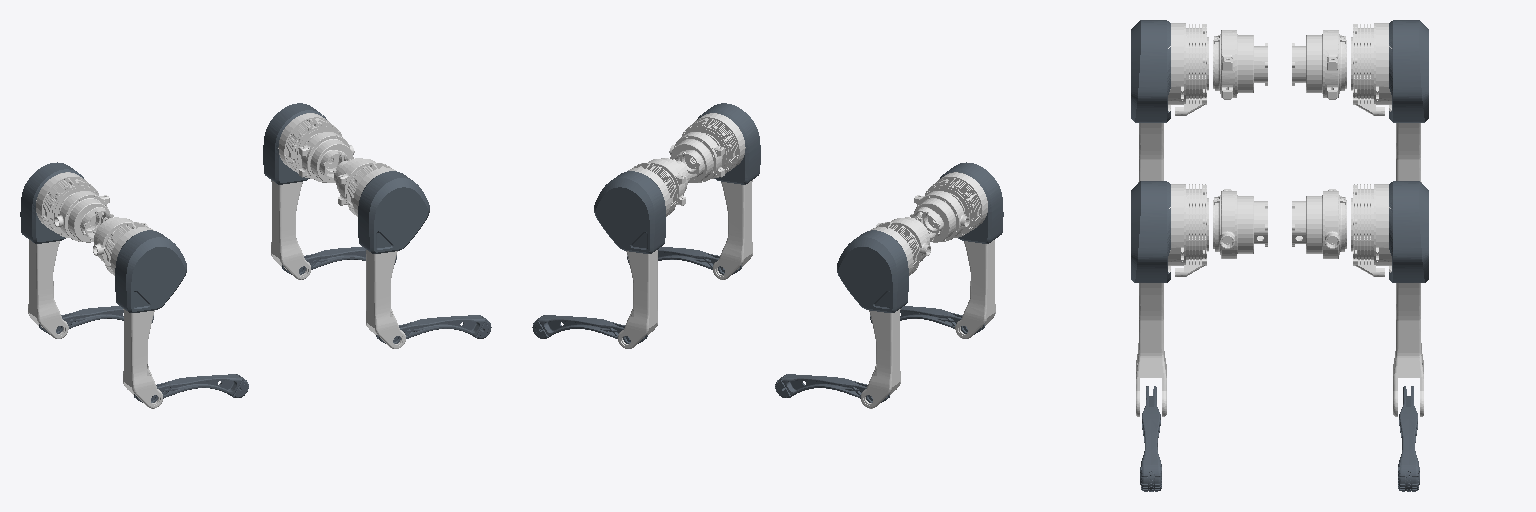
URDF robot description (X30):
<?xml version="1.0" encoding="utf-8"?>
<!-- This URDF was automatically created by SolidWorks to URDF Exporter! Originally created by [author] ([email redacted]) 
     Commit Version: 1.6.0-4-g7f85cfe  Build Version: 1.6.7995.38578
     For more information, please see http://wiki.ros.org/sw_urdf_exporter -->
<robot name="X30">
    <mujoco>
        <compiler meshdir="../meshes/" balanceinertia="false" discardvisual="false"/>
    </mujoco>
  <!-- <link name="base_link">
    <inertial>
      <origin xyz="0.0 0.0 0.0"/>
      <mass value="1e-12" />
      <inertia ixx="1e-12" ixy="0" ixz="0" iyy="1e-12" iyz="0" izz="1e-12" />
    </inertial>
  </link> -->

  <link name="TORSO">
    <inertial>
      <mass value="30.7" />
      <inertia ixx="0.364306" ixy="0.00018421" ixz="0.00027469" iyy="0.597627" iyz="0.00026784" izz="0.757267" />
    </inertial>
    <visual>
      <geometry>
        <mesh filename="../meshes/torso.dae"/>
      </geometry>
    </visual>
    <collision>
      <geometry>
        <box size="0.46 0.26 0.18"/>
      </geometry>
    </collision>
  </link>

  <!-- <joint name="base_joint" type="fixed">
    <parent link="base_link" />
    <child link="torso" />
  </joint> -->

  <link name="FL_HIP">
    <inertial>
      <origin xyz="-0.0018591 -0.011377 0.00027039"/>
      <mass value="1.43" />
      <inertia ixx="0.0014068" ixy="-1.8545e-05" ixz="2.7664e-06" iyy="0.0026782" iyz="2.1221e-06" izz="0.0015918" />
    </inertial>
    <visual>
      <geometry>
        <mesh filename="../meshes/hip.dae"/>
      </geometry>
    </visual>
  </link>

  <joint name="FL_HipX_joint" type="revolute">
    <origin xyz="0.291 0.08 0"  />
    <parent link="TORSO" />
    <child link="FL_HIP" />
    <axis xyz="-1 0 0" />
    <dynamics damping="0.0" friction="0.0"/>
    <limit lower="-0.323" upper="0.585" effort="84" velocity="17.5" />
  </joint>

  <link name="FL_THIGH">
    <inertial>
      <origin xyz="-0.0087581 -0.023554 -0.055162"  />
      <mass value="4.0809" />
      <inertia ixx="0.012604" ixy="0.00020291" ixz="-0.00030875" iyy="0.0164" iyz="0.00036593" izz="0.0061084" />
    </inertial>
    <visual>
      <geometry>
        <mesh filename="../meshes/thigh.dae"/>
      </geometry>
    </visual>
    <collision>
      <origin xyz="-0.02 0 -0.13" />
      <geometry>
        <cylinder length="0.25" radius="0.04"/>
      </geometry>
    </collision>
  </link>

  <joint name="FL_HipY_joint" type="revolute">
    <origin xyz="0 0.11675 0"  />
    <parent link="FL_HIP" />
    <child link="FL_THIGH" />
    <axis xyz="0 -1 0" />
    <dynamics damping="0.0" friction="0.0"/>
    <limit lower="-2.967" upper="0.262" effort="84" velocity="17.5" />
  </joint>

  <link name="FL_SHANK">
    <inertial>
      <origin xyz="0.014851 2.0685e-05 -0.12283"  />
      <mass value="0.71386" />
      <inertia ixx="0.0093039" ixy="1.7693e-07" ixz="0.00034843" iyy="0.0096272" iyz="-3.7717e-06" izz="0.00041542" />
    </inertial>
    <visual>
      <geometry>
        <mesh filename="../meshes/shank.dae"/>
      </geometry>
    </visual>
    <collision>
      <origin xyz="0.00 0 -0.155" />
      <geometry>
        <cylinder length="0.22" radius="0.025"/>
      </geometry>
    </collision>
  </link>

  <joint name="FL_Knee_joint" type="revolute">
    <origin xyz="0 0 -0.30"  />
    <parent link="FL_THIGH" />
    <child link="FL_SHANK" />
    <axis xyz="0 -1 0" />
    <dynamics damping="0.0" friction="0.0"/>
    <limit lower="0.349" upper="2.531" effort="150" velocity="16.1" />
  </joint>

  <link name="FL_FOOT">
    <inertial>
      <mass value="0.06" />
      <inertia ixx="1e-12" ixy="0" ixz="0" iyy="1e-12" iyz="0" izz="1e-12" />
    </inertial>
    <collision>
      <geometry>
        <sphere radius="0.036"/>
      </geometry>
    </collision>
  </link>

  <joint name="FL_Ankle" type="fixed" dont_collapse="true">
    <origin xyz="0 0 -0.31"/>
    <parent link="FL_SHANK" />
    <child link="FL_FOOT" />
  </joint>

  <link name="FR_HIP">
    <inertial>
      <origin xyz="-0.0018591 0.011377 -2.7675e-05" rpy="3.14159 0 0" />
      <mass value="1.43" />
      <inertia ixx="0.0014068" ixy="1.8545e-05" ixz="-4.1487e-06" iyy="0.0026782" iyz="7.0795e-06" izz="0.0015918" />
    </inertial>
    <visual>
      <geometry>
        <mesh filename="../meshes/hip.dae" scale="1 -1 1"/>
      </geometry>
    </visual>
  </link>

  <joint name="FR_HipX_joint" type="revolute">
    <origin xyz="0.291 -0.08 0"  />
    <parent link="TORSO" />
    <child link="FR_HIP" />
    <axis xyz="-1 0 0" />
    <dynamics damping="0.0" friction="0.0"/>
    <limit lower="-0.585" upper="0.323" effort="84" velocity="17.5" />
  </joint>

  <link name="FR_THIGH">
    <inertial>
      <origin xyz="-0.0087433 0.023551 -0.055154"  />
      <mass value="4.0809" />
      <inertia ixx="0.012604" ixy="-0.00020374" ixz="-0.0003086" iyy="0.0164" iyz="-0.00036585" izz="0.0061086" />
    </inertial>
    <visual>
      <geometry>
        <mesh filename="../meshes/thigh.dae" scale="1 -1 1"/>
      </geometry>
    </visual>
    <collision>
      <origin xyz="-0.02 0 -0.13" />
      <geometry>
        <cylinder length="0.25" radius="0.04"/>
      </geometry>
    </collision>
  </link>

  <joint name="FR_HipY_joint" type="revolute">
    <origin xyz="0 -0.11675 0"  />
    <parent link="FR_HIP" />
    <child link="FR_THIGH" />
    <axis xyz="0 -1 0" />
    <dynamics damping="0.0" friction="0.0"/>
    <limit lower="-2.967" upper="0.262" effort="84" velocity="17.5" />
  </joint>

  <link name="FR_SHANK">
    <inertial>
      <origin xyz="0.014851 2.0687e-05 -0.12283"  />
      <mass value="0.71386" />
      <inertia ixx="0.0093039" ixy="1.7692e-07" ixz="0.00034843" iyy="0.0096272" iyz="-3.7714e-06" izz="0.00041542" />
    </inertial>
    <visual>
      <geometry>
        <mesh filename="../meshes/shank.dae"/>
      </geometry>
    </visual>
    <collision>
      <origin xyz="0.00 0 -0.155" />
      <geometry>
        <cylinder length="0.22" radius="0.025"/>
      </geometry>
    </collision>
  </link>

  <joint name="FR_Knee_joint" type="revolute">
    <origin xyz="0 0 -0.30"  />
    <parent link="FR_THIGH" />
    <child link="FR_SHANK" />
    <axis xyz="0 -1 0" />
    <dynamics damping="0.0" friction="0.0"/>
    <limit lower="0.349" upper="2.531" effort="150" velocity="16.1" />
  </joint>

  <link name="FR_FOOT">
    <inertial>
      <mass value="0.06" />
      <inertia ixx="1e-12" ixy="0" ixz="0" iyy="1e-12" iyz="0" izz="1e-12" />
    </inertial>
    <collision>
      <geometry>
        <sphere radius="0.036"/>
      </geometry>
    </collision>
  </link>

  <joint name="FR_Ankle" type="fixed" dont_collapse="true">
    <origin xyz="0 0 -0.31"/>
    <parent link="FR_SHANK" />
    <child link="FR_FOOT" />
  </joint>


  <link name="HL_HIP">
    <inertial>
      <origin xyz="0.0018591 -0.011377 -2.7675e-05" rpy="0 3.14159 0" />
      <mass value="1.43" />
      <inertia ixx="0.0014068" ixy="1.8545e-05" ixz="4.1487e-06" iyy="0.0026782" iyz="-7.0795e-06" izz="0.0015918" />
    </inertial>
    <visual>
      <geometry>
        <mesh filename="../meshes/hip.dae" scale="-1 1 1"/>
      </geometry>
    </visual>
  </link>

  <joint name="HL_HipX_joint" type="revolute">
    <origin xyz="-0.291 0.08 0"  />
    <parent link="TORSO" />
    <child link="HL_HIP" />
    <axis xyz="-1 0 0" />
    <dynamics damping="0.0" friction="0.0"/>
    <limit lower="-0.323" upper="0.585" effort="84" velocity="17.5" />
  </joint>

  <link name="HL_THIGH">
    <inertial>
      <origin xyz="-0.0087581 -0.023554 -0.055162"  />
      <mass value="4.0809" />
      <inertia ixx="0.012604" ixy="0.00020291" ixz="-0.00030875" iyy="0.0164" iyz="0.00036593" izz="0.0061084" />
    </inertial>
    <visual>
      <geometry>
        <mesh filename="../meshes/thigh.dae"/>
      </geometry>
    </visual>
    <collision>
      <origin xyz="-0.02 0 -0.13" />
      <geometry>
        <cylinder length="0.25" radius="0.04"/>
      </geometry>
    </collision>
  </link>

  <joint name="HL_HipY_joint" type="revolute">
    <origin xyz="0 0.11675 0"  />
    <parent link="HL_HIP" />
    <child link="HL_THIGH" />
    <axis xyz="0 -1 0" />
    <dynamics damping="0.0" friction="0.0"/>
    <limit lower="-2.967" upper="0.262" effort="84" velocity="17.5" />
  </joint>

  <link name="HL_SHANK">
    <inertial>
      <origin xyz="0.014851 2.0679e-05 -0.12283"  />
      <mass value="0.71386" />
      <inertia ixx="0.0093039" ixy="1.7692e-07" ixz="0.00034843" iyy="0.0096272" iyz="-3.7714e-06" izz="0.00041542" />
    </inertial>
    <visual>
      <geometry>
        <mesh filename="../meshes/shank.dae"/>
      </geometry>
    </visual>
    <collision>
      <origin xyz="0.00 0 -0.155" />
      <geometry>
        <cylinder length="0.22" radius="0.025"/>
      </geometry>
    </collision>
  </link>

  <joint name="HL_Knee_joint" type="revolute">
    <origin xyz="0 0 -0.30"  />
    <parent link="HL_THIGH" />
    <child link="HL_SHANK" />
    <axis xyz="0 -1 0" />
    <dynamics damping="0.0" friction="0.0"/>
    <limit lower="0.349" upper="2.531" effort="150" velocity="16.1" />
  </joint>

  <link name="HL_FOOT">
    <inertial>
      <mass value="0.06" />
      <inertia ixx="1e-12" ixy="0" ixz="0" iyy="1e-12" iyz="0" izz="1e-12" />
    </inertial>
    <collision>
      <geometry>
        <sphere radius="0.036"/>
      </geometry>
    </collision>
  </link>

  <joint name="HL_Ankle" type="fixed" dont_collapse="true">
    <origin xyz="0 0 -0.31"/>
    <parent link="HL_SHANK" />
    <child link="HL_FOOT" />
  </joint>

  <link name="HR_HIP">
    <inertial>
      <origin xyz="0.0018591 0.011377 0.00027039" rpy="3.14159 3.14159 0" />
      <mass value="1.43" />
      <inertia ixx="0.0014068" ixy="-1.8545e-05" ixz="-2.7664e-06" iyy="0.0026782" iyz="-2.1221e-06" izz="0.0015918" />
    </inertial>
    <visual>
      <geometry>
        <mesh filename="../meshes/hip.dae" scale="-1 -1 1"/>
      </geometry>
    </visual>
  </link>

  <joint name="HR_HipX_joint" type="revolute">
    <origin xyz="-0.291 -0.08 0"  />
    <parent link="TORSO" />
    <child link="HR_HIP" />
    <axis xyz="-1 0 0" />
    <dynamics damping="0.0" friction="0.0"/>
    <limit lower="-0.585" upper="0.323" effort="84" velocity="17.5" />
  </joint>

  <link name="HR_THIGH">
    <inertial>
      <origin xyz="-0.0087433 0.023551 -0.055154"  />
      <mass value="4.0809" />
      <inertia ixx="0.012604" ixy="-0.00020374" ixz="-0.0003086" iyy="0.0164" iyz="-0.00036585" izz="0.0061086" />
    </inertial>
    <visual>
      <geometry>
        <mesh filename="../meshes/thigh.dae" scale="1 -1 1"/>
      </geometry>
    </visual>
    <collision>
      <origin xyz="-0.02 0 -0.13" />
      <geometry>
        <cylinder length="0.25" radius="0.04"/>
      </geometry>
    </collision>
  </link>

  <joint name="HR_HipY_joint" type="revolute">
    <origin xyz="0 -0.11675 0"  />
    <parent link="HR_HIP" />
    <child link="HR_THIGH" />
    <axis xyz="0 -1 0" />
    <dynamics damping="0.0" friction="0.0"/>
    <limit lower="-2.967" upper="0.262" effort="84" velocity="17.5" />
  </joint>

  <link name="HR_SHANK">
    <inertial>
      <origin xyz="0.014851 2.0679e-05 -0.12283"  />
      <mass value="0.71386" />
      <inertia ixx="0.0093039" ixy="1.7692e-07" ixz="0.00034843" iyy="0.0096272" iyz="-3.7714e-06" izz="0.00041542" />
    </inertial>
    <visual>
      <geometry>
        <mesh filename="../meshes/shank.dae" />
      </geometry>
    </visual>
    <collision>
      <origin xyz="0.00 0 -0.155" />
      <geometry>
        <cylinder length="0.22" radius="0.025"/>
      </geometry>
    </collision>
  </link>

  <joint name="HR_Knee_joint" type="revolute">
    <origin xyz="0 0 -0.30"  />
    <parent link="HR_THIGH" />
    <child link="HR_SHANK" />
    <axis xyz="0 -1 0" />
    <dynamics damping="0.0" friction="0.0"/>
    <limit lower="0.349" upper="2.531" effort="150" velocity="16.1" />
  </joint>

  <link name="HR_FOOT">
    <inertial>
      <mass value="0.06" />
      <inertia ixx="1e-12" ixy="0" ixz="0" iyy="1e-12" iyz="0" izz="1e-12" />
    </inertial>
    <collision>
      <geometry>
        <sphere radius="0.036"/>
      </geometry>
    </collision>
  </link>

  <joint name="HR_Ankle" type="fixed" dont_collapse="true">
    <origin xyz="0 0 -0.31"/>
    <parent link="HR_SHANK" />
    <child link="HR_FOOT" />
  </joint>

</robot>

--- Facts derived from the render (not from the file) ---
3 views of the same robot in one strip: view 1: azimuth 30°, elevation 25°; view 2: azimuth 150°, elevation 25°; view 3: azimuth 270°, elevation 25° (orthographic).
Model X30 with 17 links and 16 joints (12 revolute, 4 fixed), rooted at TORSO, posed joints at zero except 4 at the middle of their limits (FL_Knee_joint = 1.44, FR_Knee_joint = 1.44, HL_Knee_joint = 1.44, HR_Knee_joint = 1.44).
Visible links, largest first — view 1: FR_THIGH, HR_THIGH, HL_THIGH, FL_THIGH, HL_HIP, FL_HIP, FR_SHANK, HR_SHANK, HL_SHANK, FL_SHANK, FR_HIP, HR_HIP; view 2: FL_THIGH, HL_THIGH, HR_THIGH, FR_THIGH, HR_HIP, FR_HIP, FL_SHANK, HL_SHANK, HR_SHANK, FR_SHANK, FL_HIP, HL_HIP; view 3: FL_THIGH, FR_THIGH, HL_THIGH, HR_THIGH, FL_HIP, FR_HIP, HL_HIP, HR_HIP, FR_SHANK, FL_SHANK.
Boxes of the visible links, x1,y1,x2,y2 form: FR_THIGH: (346, 163, 429, 348); HR_THIGH: (104, 222, 186, 408); HL_THIGH: (20, 162, 98, 338); FL_THIGH: (263, 103, 342, 279); HL_HIP: (54, 191, 113, 242); FL_HIP: (299, 132, 354, 182); FR_SHANK: (376, 315, 491, 343); HR_SHANK: (134, 374, 248, 402); HL_SHANK: (39, 306, 153, 334); FL_SHANK: (282, 247, 396, 274); FR_HIP: (333, 158, 375, 205); HR_HIP: (93, 217, 147, 261); FL_THIGH: (594, 163, 677, 348); HL_THIGH: (837, 222, 919, 408); HR_THIGH: (925, 162, 1003, 338); FR_THIGH: (681, 103, 760, 279); HR_HIP: (910, 191, 969, 242); FR_HIP: (669, 132, 724, 182); FL_SHANK: (532, 315, 647, 343); HL_SHANK: (775, 374, 889, 402); HR_SHANK: (870, 306, 984, 334); FR_SHANK: (627, 247, 741, 274); FL_HIP: (648, 158, 690, 205); HL_HIP: (876, 217, 930, 261); FL_THIGH: (1351, 181, 1428, 416); FR_THIGH: (1131, 181, 1208, 416); HL_THIGH: (1351, 20, 1428, 182); HR_THIGH: (1131, 20, 1208, 182); FL_HIP: (1292, 189, 1346, 258); FR_HIP: (1213, 189, 1267, 258); HL_HIP: (1292, 30, 1346, 99); HR_HIP: (1213, 30, 1267, 99); FR_SHANK: (1140, 386, 1161, 491); FL_SHANK: (1398, 386, 1419, 491).
Size in the robot's own frame: 0.8818 by 0.4539 by 0.4171 metres.
12 mesh visuals loaded from 4 distinct referenced files (3 Collada DAE); not drawn: 1 (reference not matched to a file when rendering).
